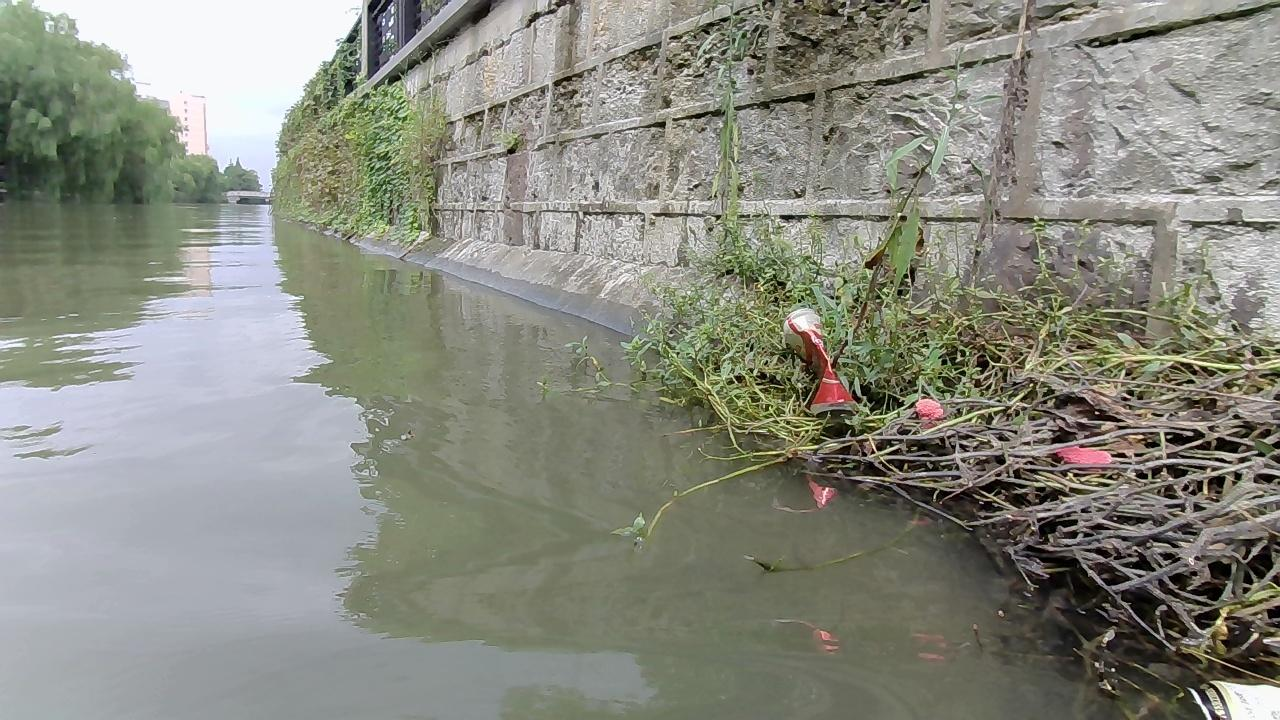bottle: (780, 305, 860, 417)
